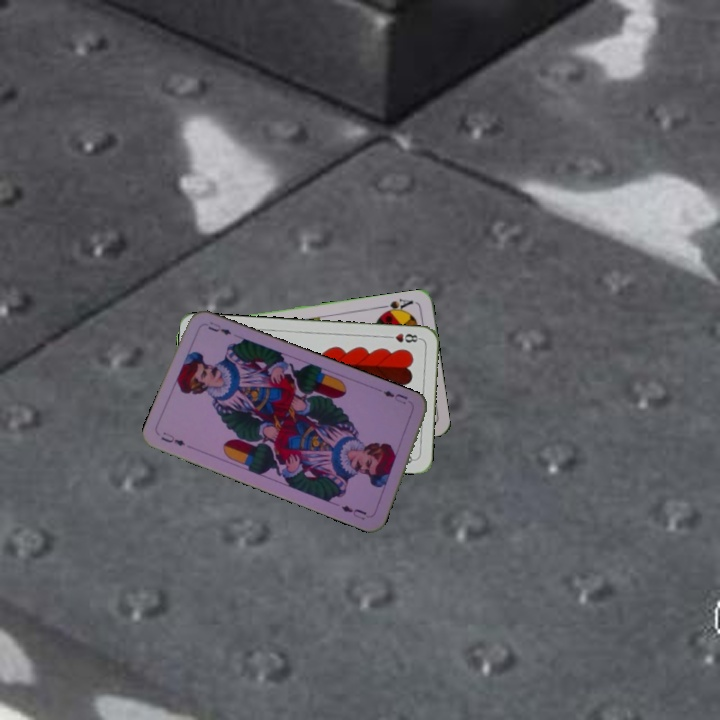EU: (379, 386, 410, 407), (157, 428, 188, 449)
H8: (382, 329, 423, 345)
SA: (377, 295, 416, 317)
